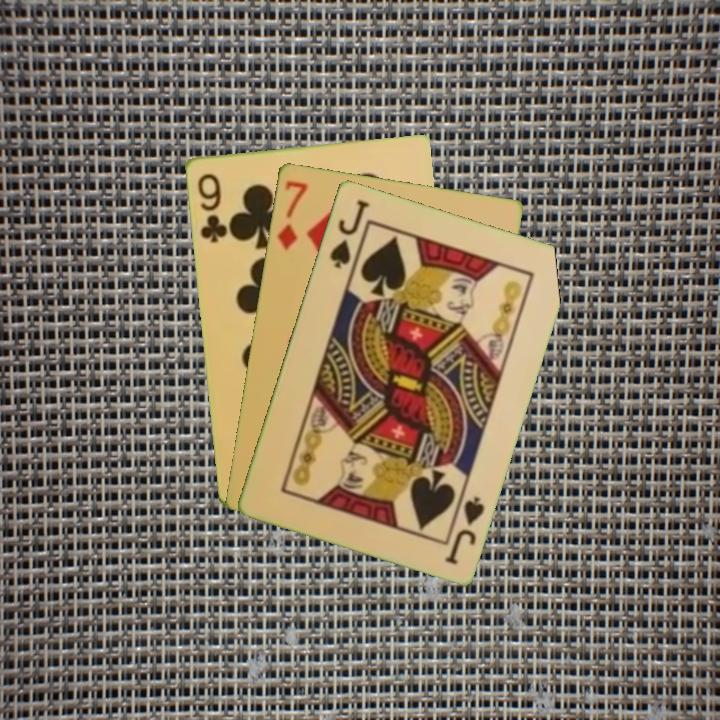7d: (273, 176, 310, 253)
9c: (193, 169, 229, 246)
Js: (326, 195, 372, 271), (441, 492, 487, 567)
